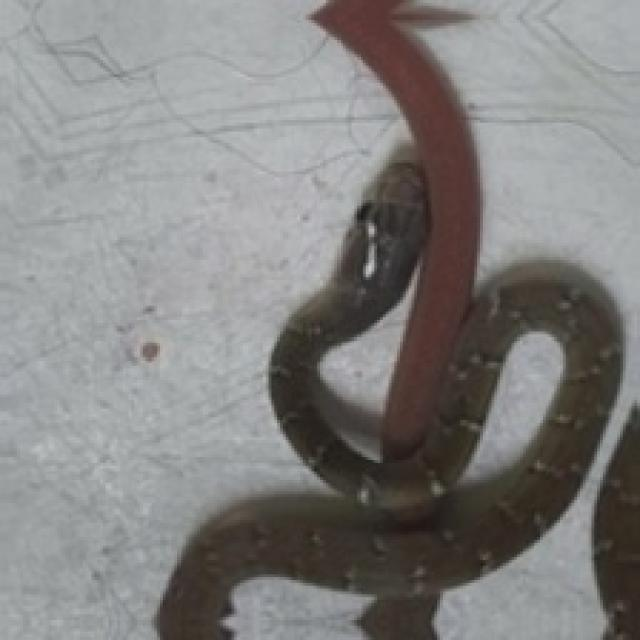reddish rat snake: (157, 0, 637, 637)
